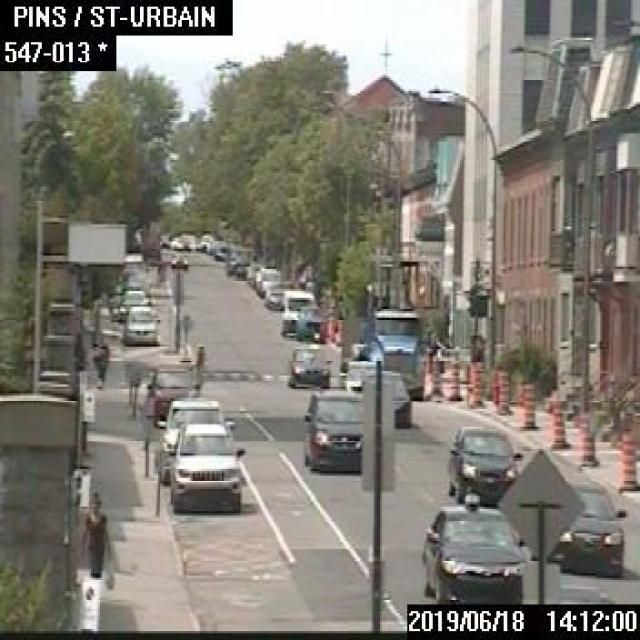construction: (613, 431, 638, 489), (547, 389, 569, 449), (576, 411, 596, 465), (489, 367, 511, 413), (518, 376, 536, 426), (426, 356, 442, 398), (448, 358, 460, 398), (469, 366, 480, 406), (335, 317, 345, 342), (325, 316, 335, 340)
pedestrian: (82, 489, 105, 578), (93, 344, 107, 386), (193, 342, 205, 378)
vehicle: (420, 492, 527, 602), (548, 476, 626, 574), (162, 422, 246, 512), (155, 394, 236, 480), (447, 422, 522, 503), (360, 307, 426, 398), (302, 386, 363, 470), (146, 364, 199, 418), (360, 368, 410, 425), (287, 345, 331, 387), (121, 304, 160, 346), (279, 288, 314, 334), (294, 304, 328, 338), (118, 287, 150, 320), (264, 279, 292, 305), (255, 266, 280, 294), (124, 273, 147, 290), (169, 250, 189, 268), (107, 292, 120, 318)
